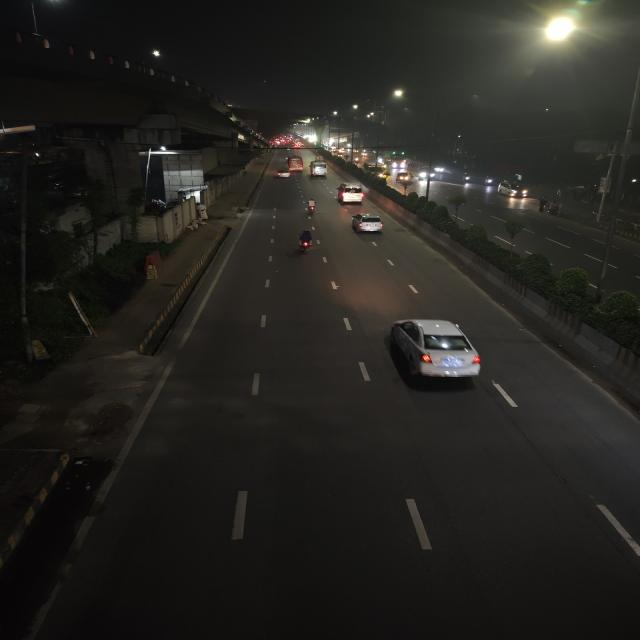bus: (412, 162, 436, 180), (309, 161, 328, 178), (287, 156, 305, 172)
car: (377, 314, 500, 394), (349, 212, 385, 235), (333, 182, 367, 205), (497, 180, 531, 200), (275, 168, 292, 179)
cng: (394, 171, 412, 185)
motorcycle: (292, 228, 317, 254), (301, 198, 320, 220), (462, 171, 472, 184)
truck: (388, 154, 408, 170)
